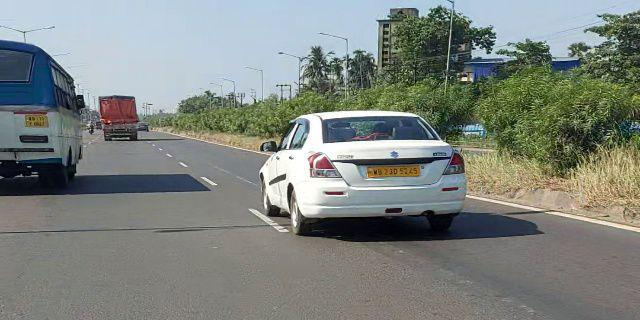Bus: (1, 39, 89, 195)
Car: (255, 108, 470, 236)
Truck: (94, 93, 142, 145)
